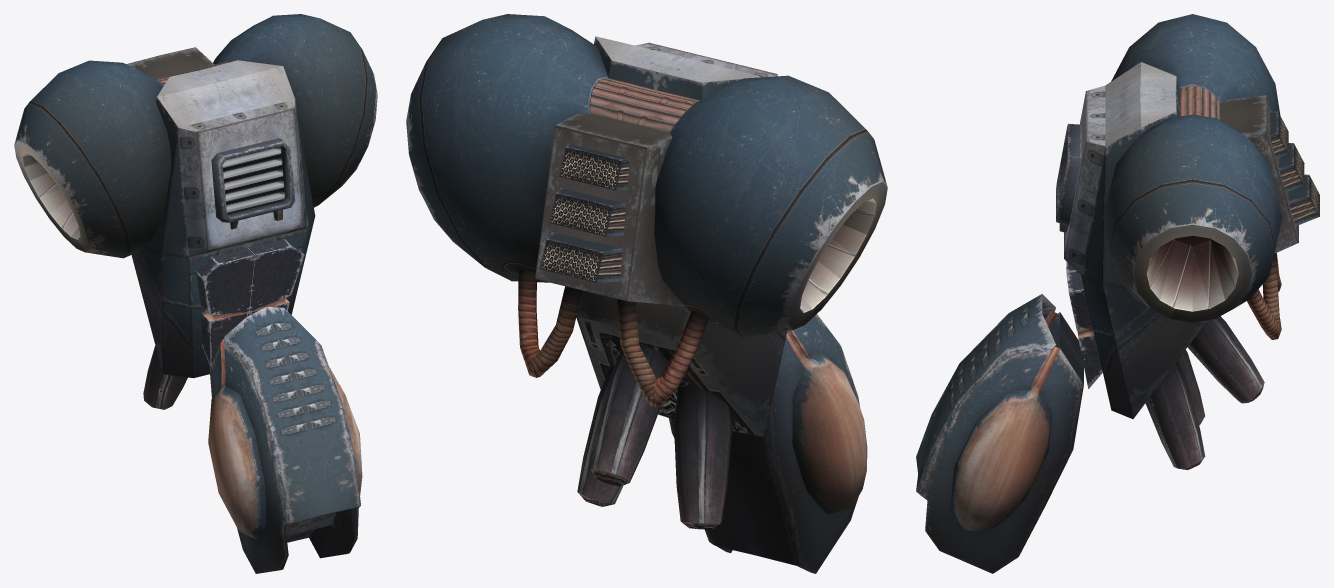
Rendered from Sonde.dae.
3 renders of one model, left to right at view 1: azimuth 30°, elevation 25°; view 2: azimuth 150°, elevation 25°; view 3: azimuth 270°, elevation 25°, orthographic. The views are drawn at different scales.
Parts seen in each view (by area): view 1: Sonde; view 2: Sonde; view 3: Sonde.
Part boxes in pixels (<box>): Sonde: <box>14,14,377,573</box>; Sonde: <box>406,14,887,573</box>; Sonde: <box>916,14,1319,573</box>.
Size of the model in its own units: 6.58 by 8.43 by 6.38.
